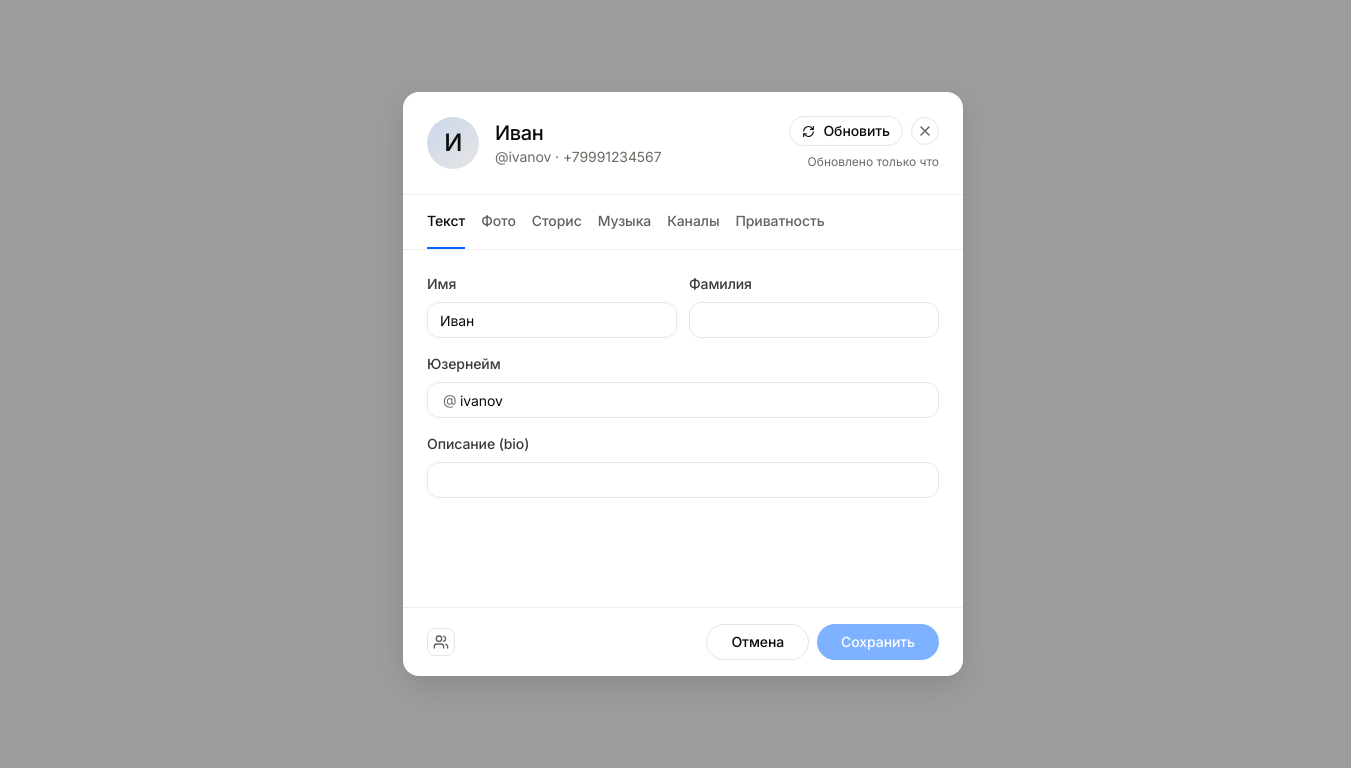
the refresh button flashes an error state when the live pull fails
Click the button "Обновить" at [846, 131], box [789,116,903,146]
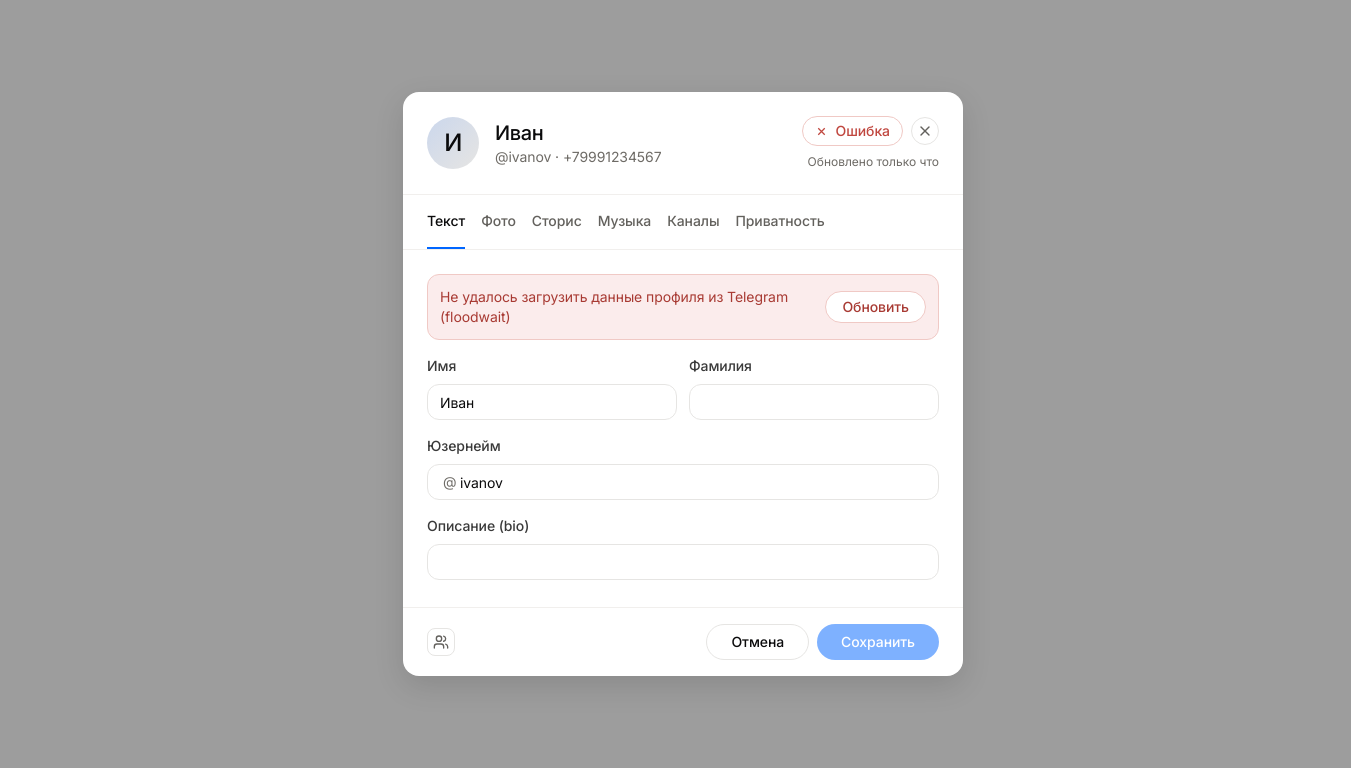
Check: the button "Ошибка" is shown, box [802,116,903,146]
